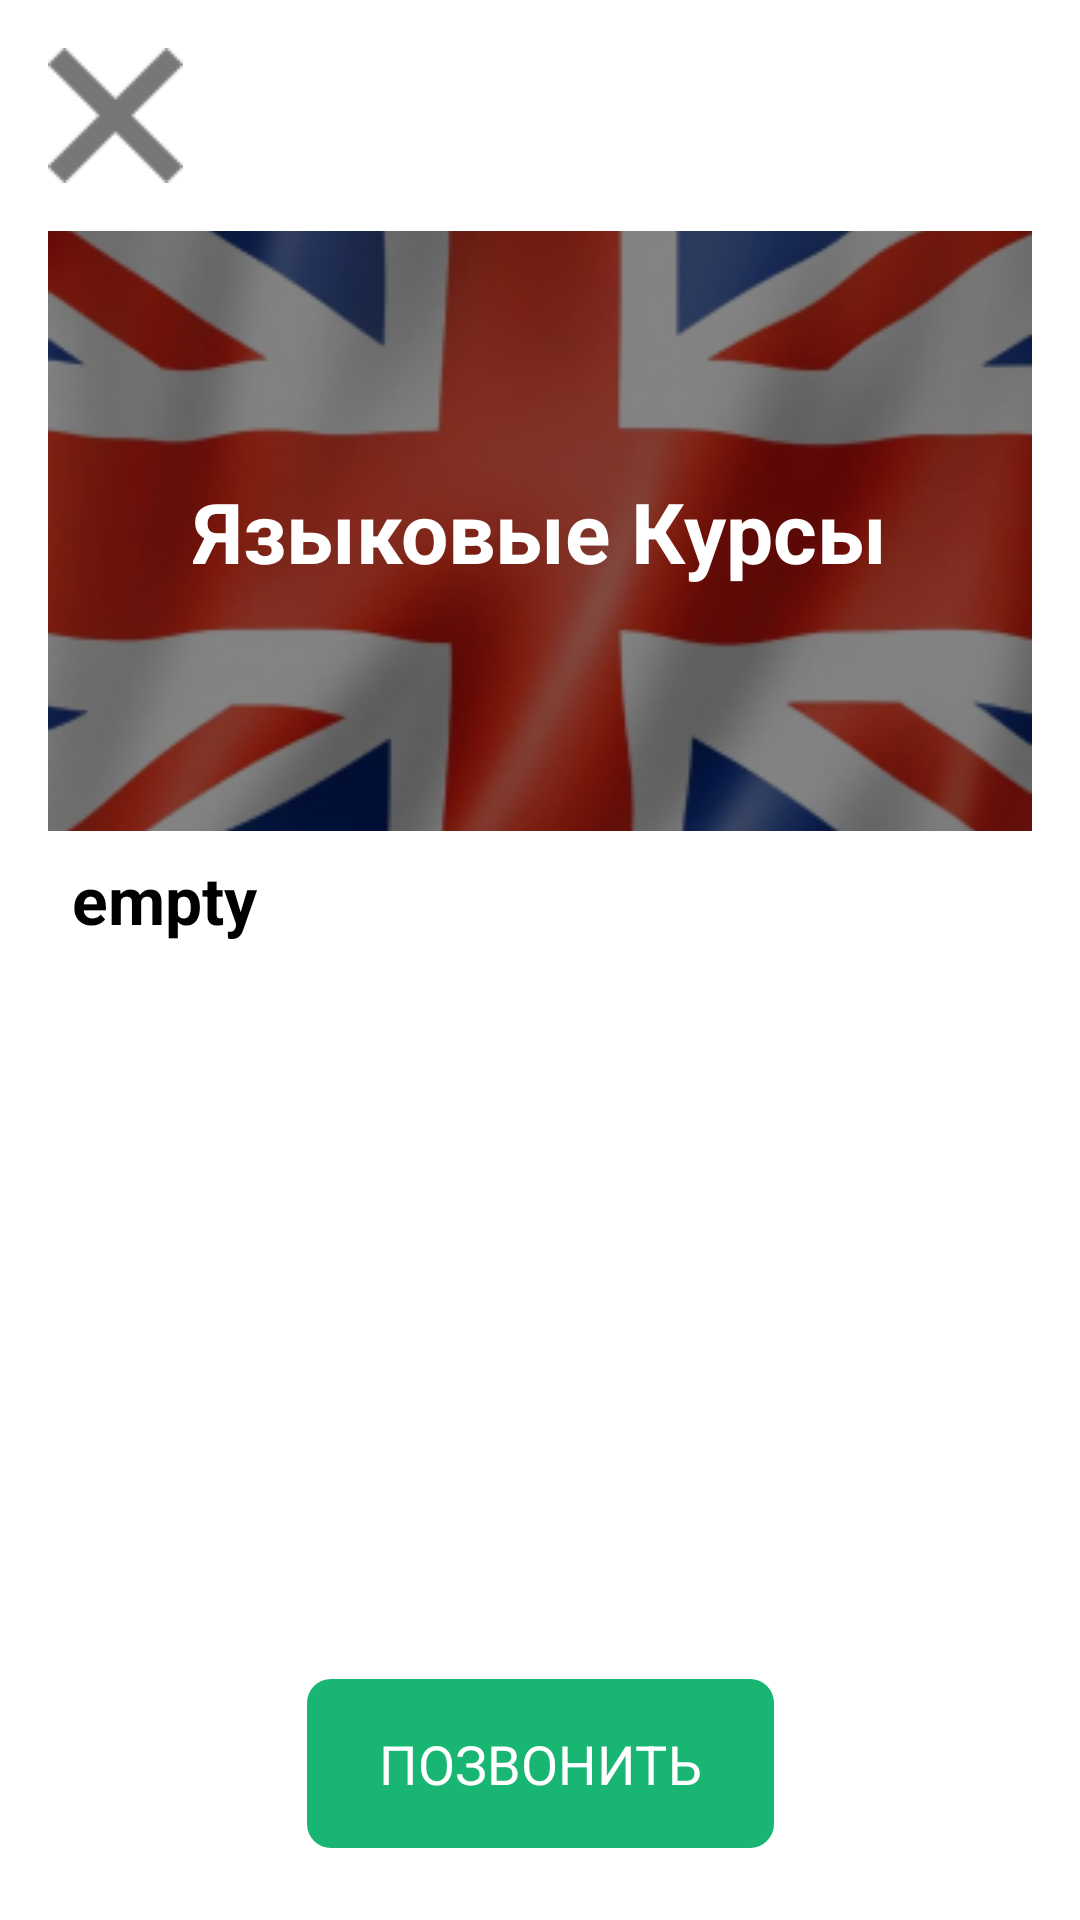

Locate icon controls on the screen. Image size 1080px×1920px, boxes as (x1, y1, x2, y2).
close: (48, 48, 183, 183)
